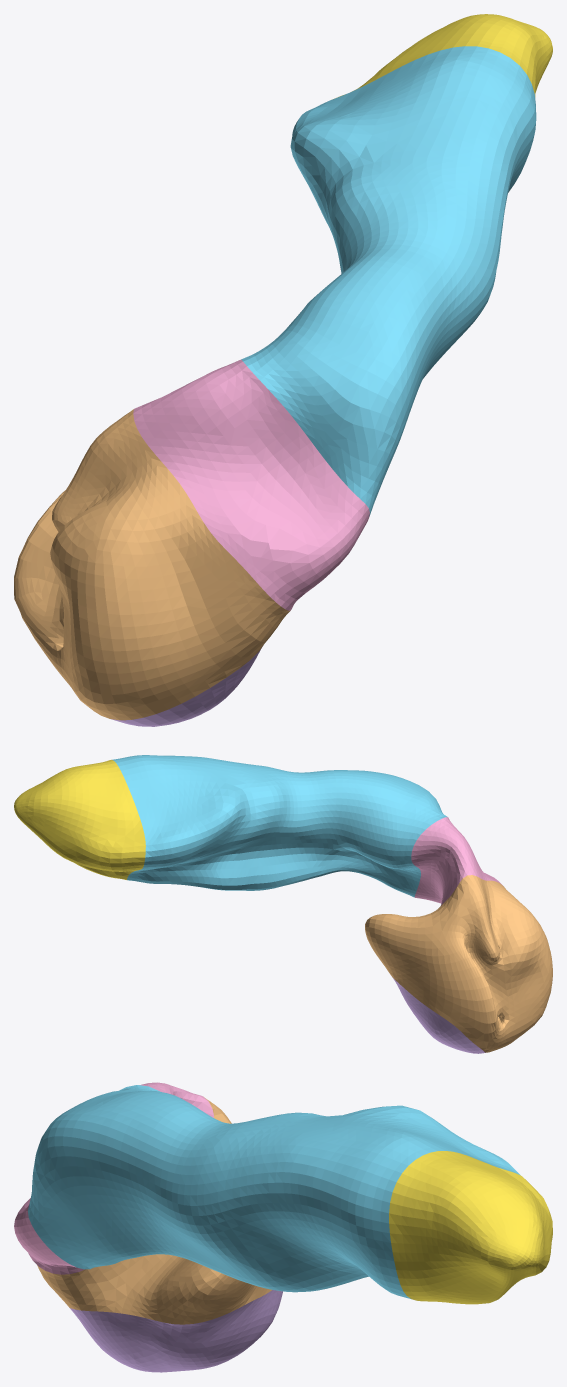
Rendered from organ-pancreas.glb.
3 renders of one model, top to bottom at view 1: azimuth 30°, elevation 25°; view 2: azimuth 150°, elevation 25°; view 3: azimuth 270°, elevation 25°, orthographic. The views are drawn at different scales.
Parts seen in each view (by area): view 1: body-of-pancreas, head-of-pancreas, neck-of-pancreas, tail-of-pancreas, uncinate-process-of-the-pancreas; view 2: body-of-pancreas, head-of-pancreas, tail-of-pancreas, neck-of-pancreas, uncinate-process-of-the-pancreas; view 3: body-of-pancreas, tail-of-pancreas, head-of-pancreas, uncinate-process-of-the-pancreas, neck-of-pancreas.
Boxes of the visible parts, box(x1,y1,x2,y2) form: body-of-pancreas: box(241, 46, 536, 516); head-of-pancreas: box(14, 409, 290, 720); neck-of-pancreas: box(133, 359, 369, 610); tail-of-pancreas: box(334, 14, 552, 98); uncinate-process-of-the-pancreas: box(111, 646, 262, 726); body-of-pancreas: box(112, 755, 447, 897); head-of-pancreas: box(365, 875, 552, 1052); tail-of-pancreas: box(14, 759, 145, 879); neck-of-pancreas: box(411, 817, 502, 905); uncinate-process-of-the-pancreas: box(392, 977, 485, 1053); body-of-pancreas: box(28, 1085, 520, 1299); tail-of-pancreas: box(389, 1151, 552, 1304); head-of-pancreas: box(37, 1096, 271, 1324); uncinate-process-of-the-pancreas: box(70, 1290, 282, 1372); neck-of-pancreas: box(14, 1082, 213, 1274).
Size of the model in its own units: 0.1115 by 0.072 by 0.0836.
